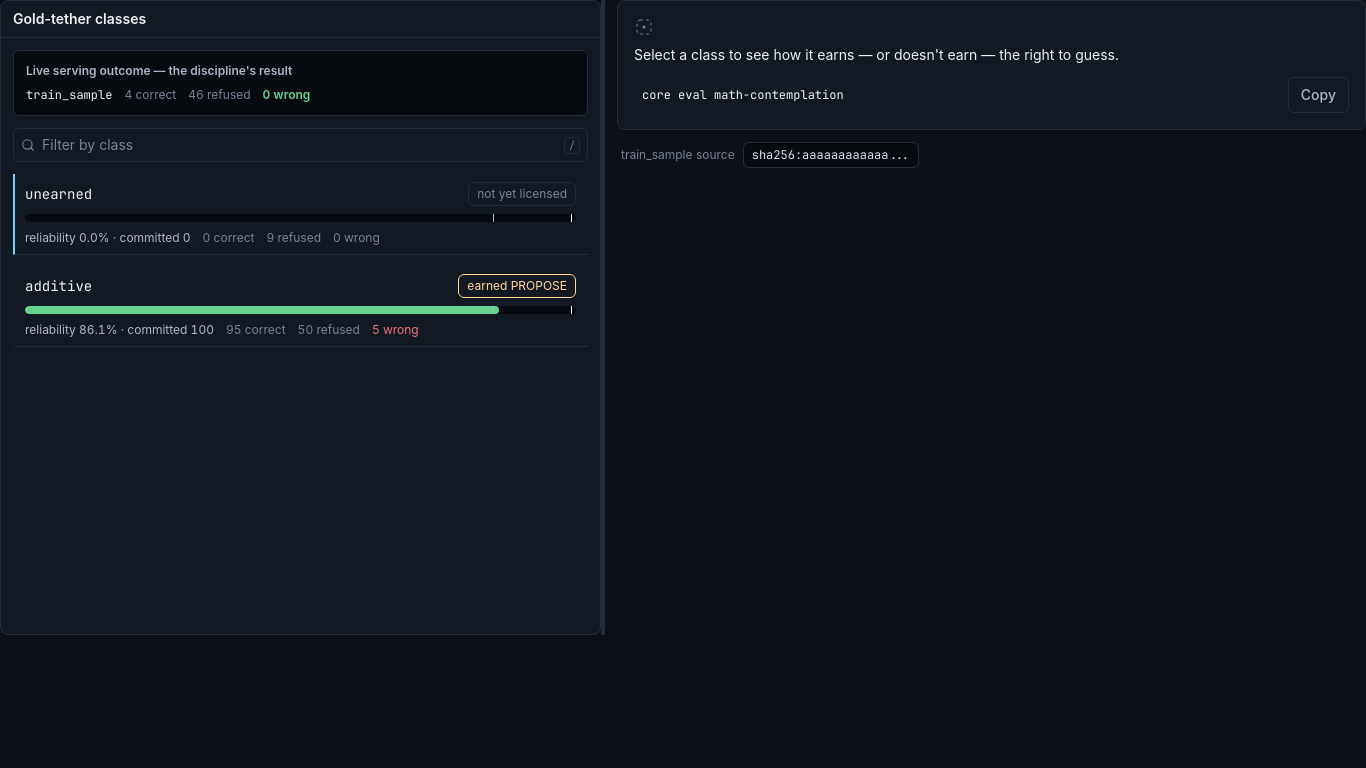
Test case: CalibrationRoute › shows the honest license math (measured vs θ) for a selected class
Click the text "additive": [59, 286] box [25,276,92,296]
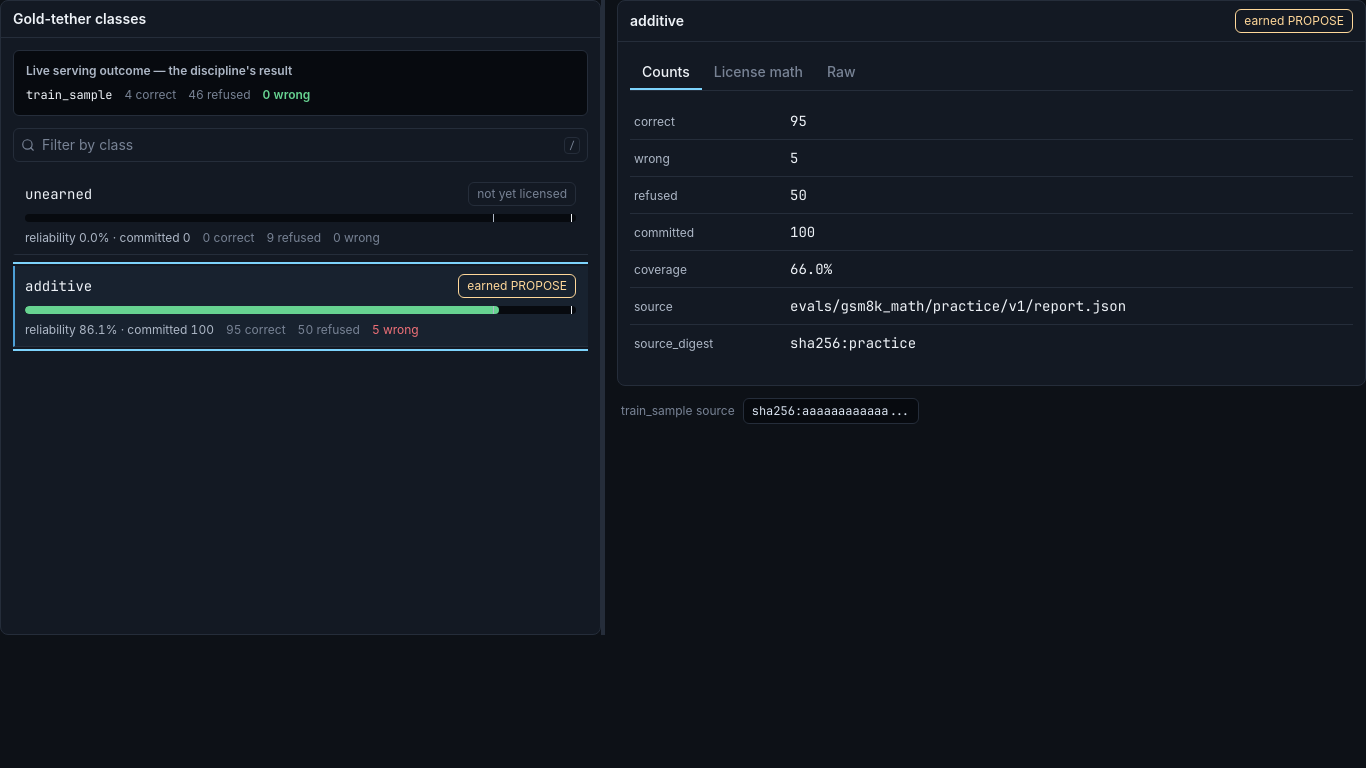
Click the tab "License math": [758, 72] box [702,54,815,90]
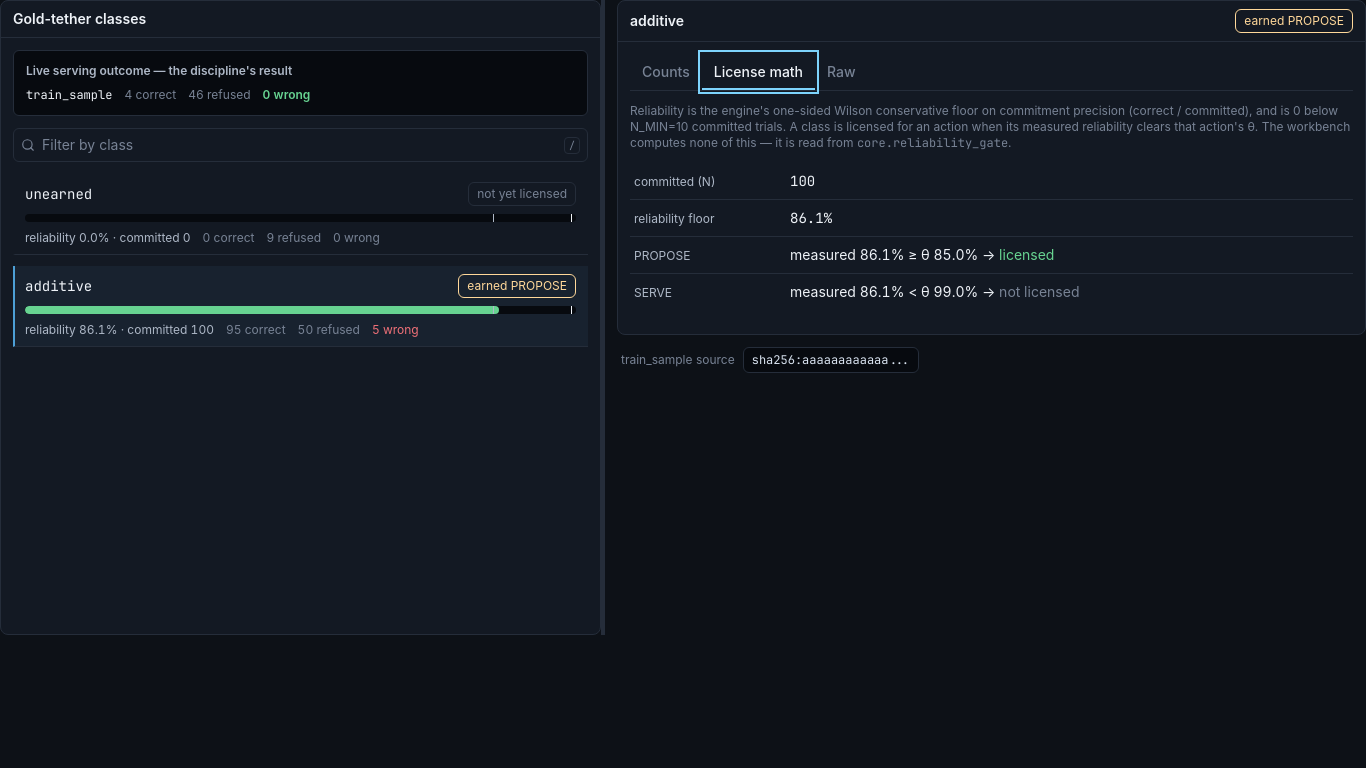
Expected: the text "not yet licensed" is shown, [468,182,576,206]
Now the text "core.reliability_gate" is shown, box [857,135,1008,151]
